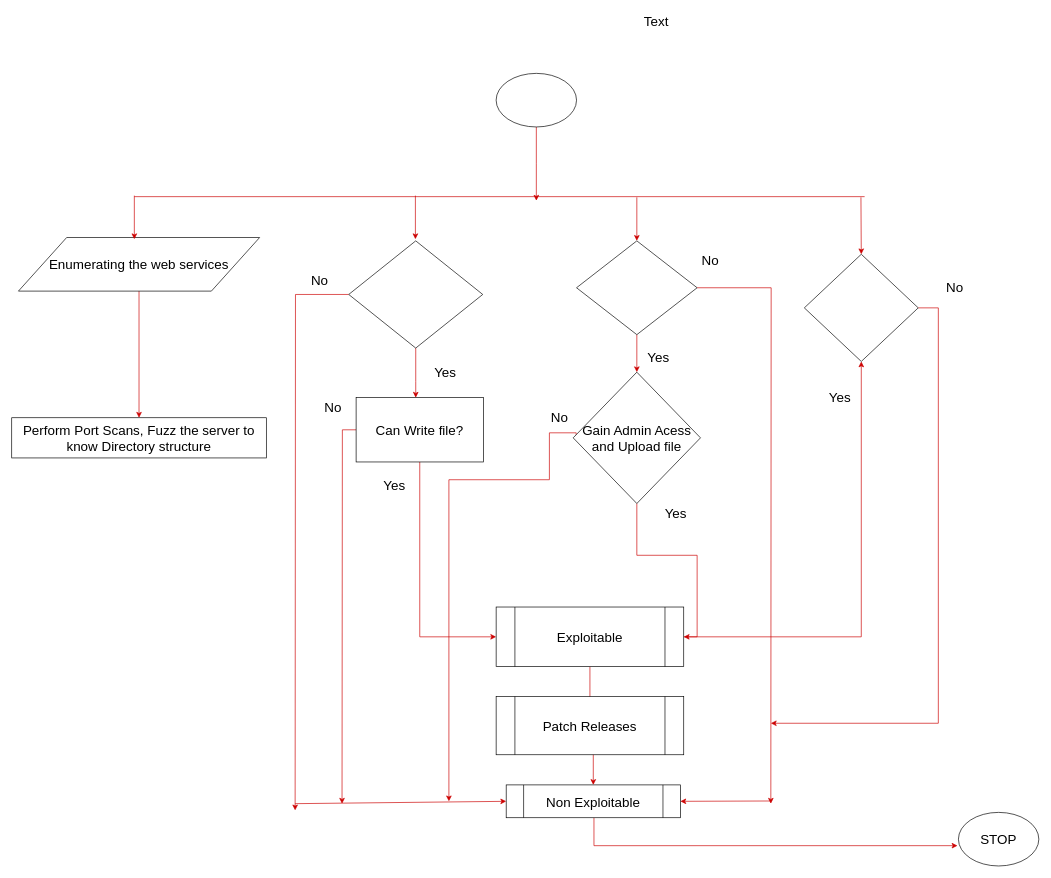
Image size: 1051x878. Some labels were removed from this diagram. Here are the shapes that lost their labels. From the top down, the centre of each, then its label:
At point (536, 100): "START".
At point (415, 294): "Is SQL injectable?".
At point (636, 287): "is XSS attack works?".
At point (861, 307): "Can upload scripts?".
